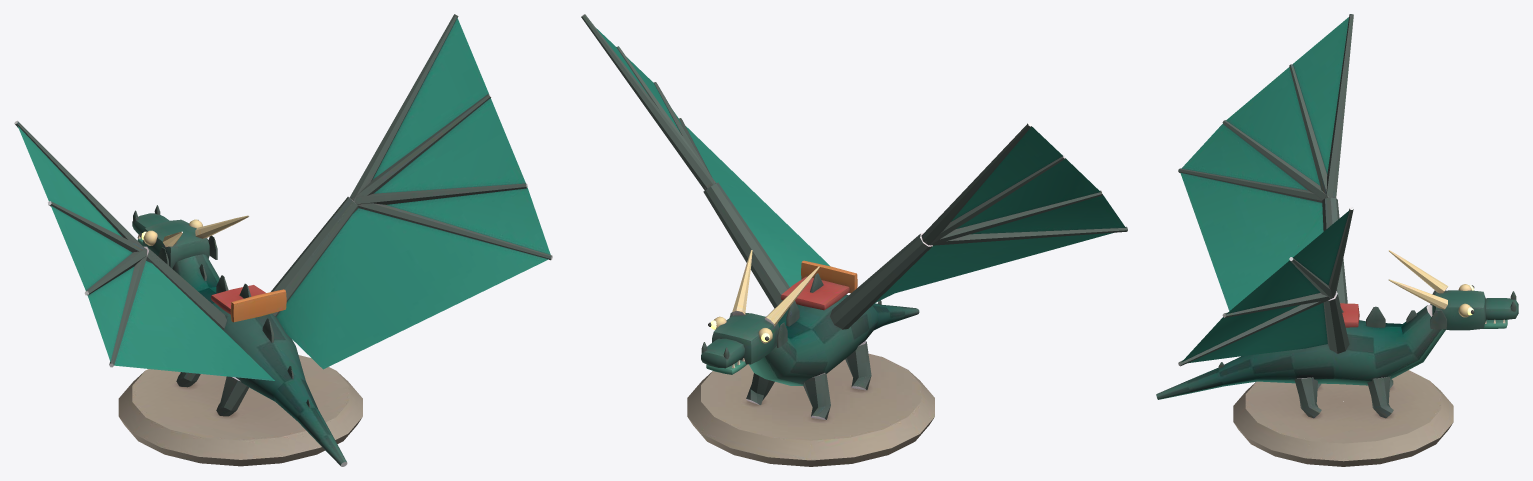
Rendered from dragon_mount.glb.
3 renders of one model, left to right at view 1: azimuth 30°, elevation 25°; view 2: azimuth 150°, elevation 25°; view 3: azimuth 270°, elevation 25°, orthographic. The views are drawn at different scales.
Visible parts, largest first — view 1: main; view 2: main; view 3: main.
Part boxes in pixels (x1,y1,x2,y2): main: [14, 14, 552, 466]; main: [581, 14, 1127, 466]; main: [1156, 14, 1518, 466].
Bounding box in the file's own units: 18.6 × 13.84 × 14.59.
2 materials, 1 textured.
